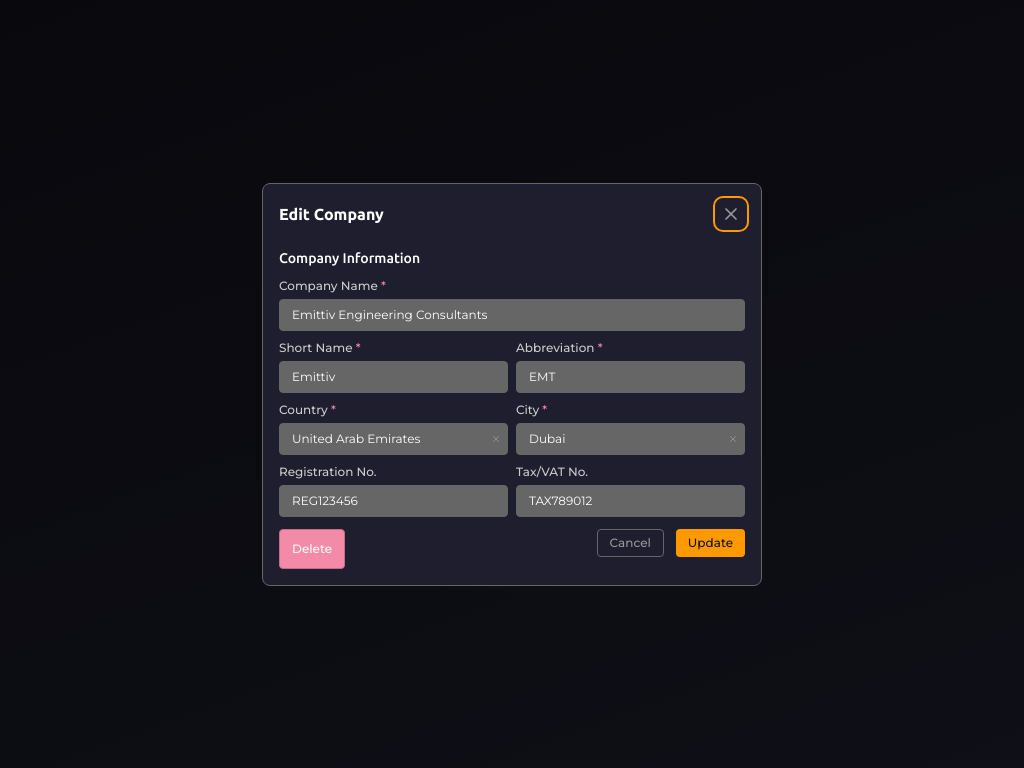
Test: CompanyModal Component › CRUD Operations › should show delete confirmation
The width and height of the screenshot is (1024, 768).
Click the button "Delete" at x=312, y=548, box [279, 528, 345, 568]
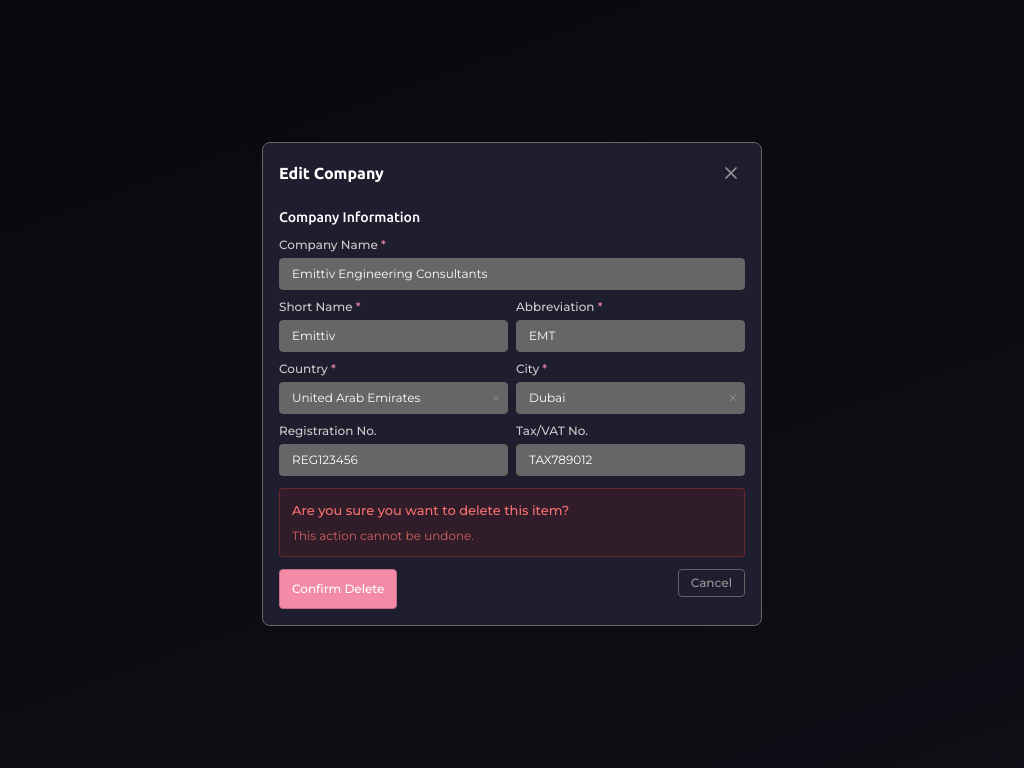
Expected: the text "Are you sure you want to delete this item?" is shown, [292, 502, 569, 518]
Expected: the button "Confirm Delete" is shown, [279, 569, 398, 609]
